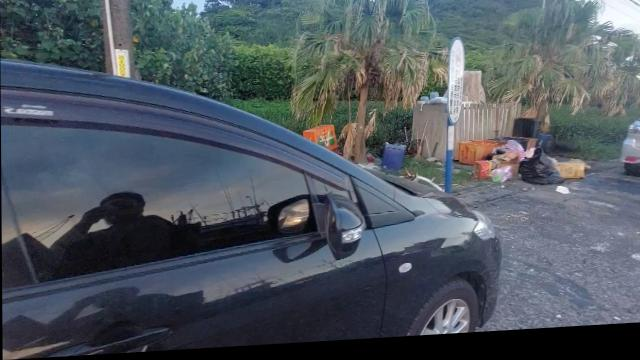pollute: (458, 141, 587, 194), (303, 127, 343, 162), (399, 174, 445, 197), (379, 148, 405, 174), (556, 193, 575, 200)
